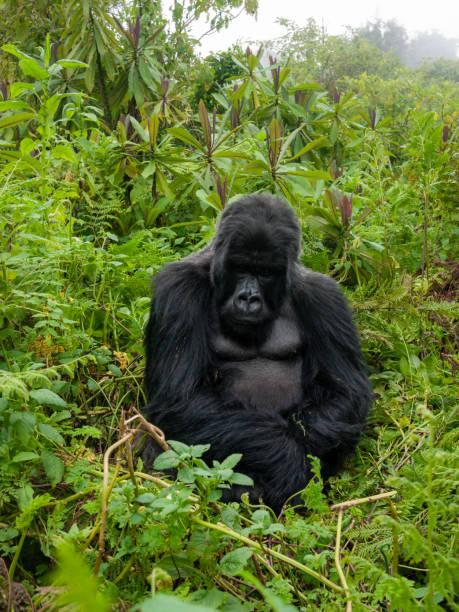goriile_montagne: (117, 167, 428, 515)
